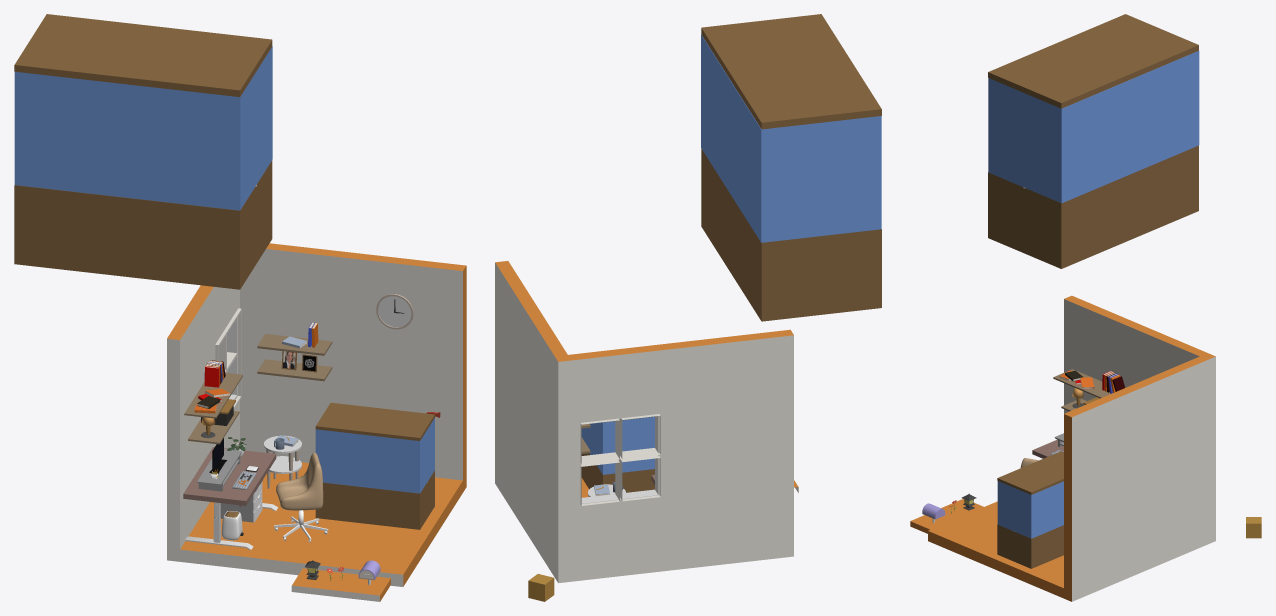
File: house 1.glb
3 renders of one model, left to right at view 1: azimuth 30°, elevation 25°; view 2: azimuth 150°, elevation 25°; view 3: azimuth 270°, elevation 25°, orthographic. The views are drawn at different scales.
Visible parts, largest first — view 1: brud, Room, bruv, Table Base, Shelf 1, Shelf 2, Garden Floor, Chair seat, Desk Content, Stool, Clock; view 2: Room, brud, bruv, cubicle; view 3: brud, Room, bruv, Shelf 1, Garden Floor.
Part boxes in pixels (box(x1,y1,x2,y2)): brud: box(14, 14, 272, 289); Room: box(167, 243, 466, 586); bruv: box(315, 402, 434, 529); Table Base: box(183, 447, 277, 549); Shelf 1: box(184, 360, 242, 444); Shelf 2: box(257, 322, 332, 381); Garden Floor: box(291, 568, 390, 601); Chair seat: box(276, 452, 323, 510); Desk Content: box(197, 437, 258, 491); Stool: box(264, 435, 301, 488); Clock: box(376, 294, 413, 329); Room: box(495, 261, 793, 583); brud: box(701, 14, 881, 321); bruv: box(581, 416, 654, 492); cubicle: box(528, 574, 554, 601); brud: box(988, 14, 1199, 268); Room: box(928, 295, 1215, 601); bruv: box(997, 451, 1063, 568); Shelf 1: box(1053, 369, 1125, 411); Garden Floor: box(910, 499, 983, 533).
Size of the model in its own units: 32.63 by 37.22 by 28.41.
80 materials, 3 textured.
